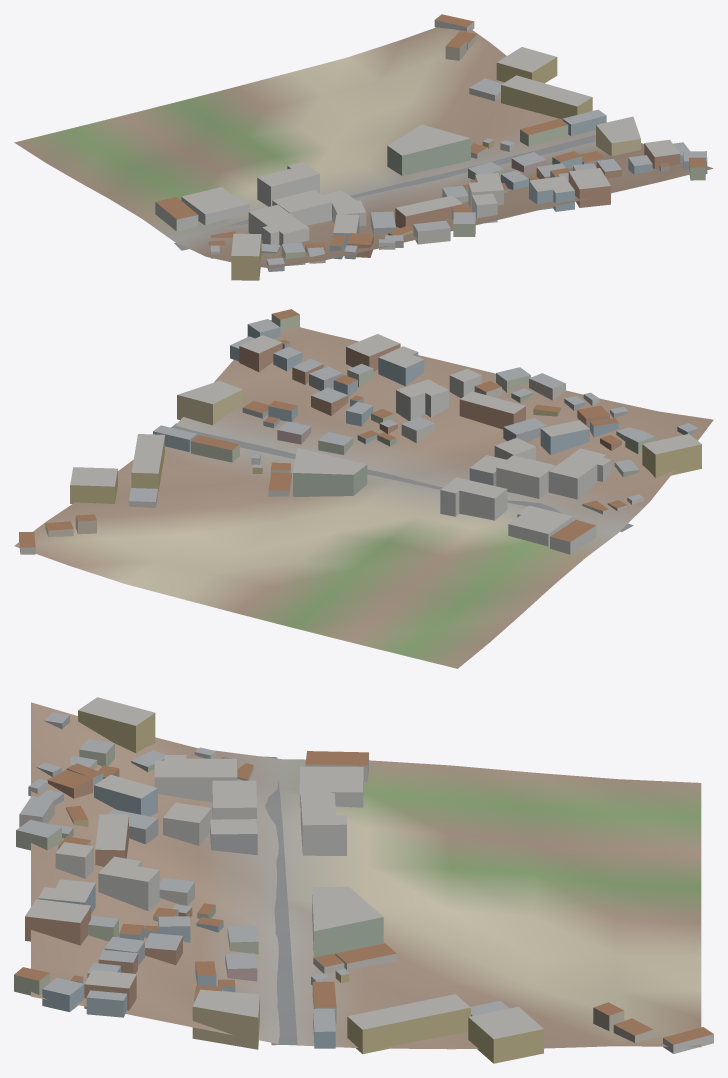
3 views of the same model, one above another, from view 1: azimuth 30°, elevation 25°; view 2: azimuth 150°, elevation 25°; view 3: azimuth 270°, elevation 25° (orthographic). The views are drawn at different scales.
Parts seen in each view (by area): view 1: Lo; view 2: Lo; view 3: Lo.
Part boxes in pixels (x1,y1,x2,y2): Lo: (14,14,713,280); Lo: (14,309,713,668); Lo: (14,697,713,1063).
Size of the model in its own units: 275 by 34.84 by 267.
